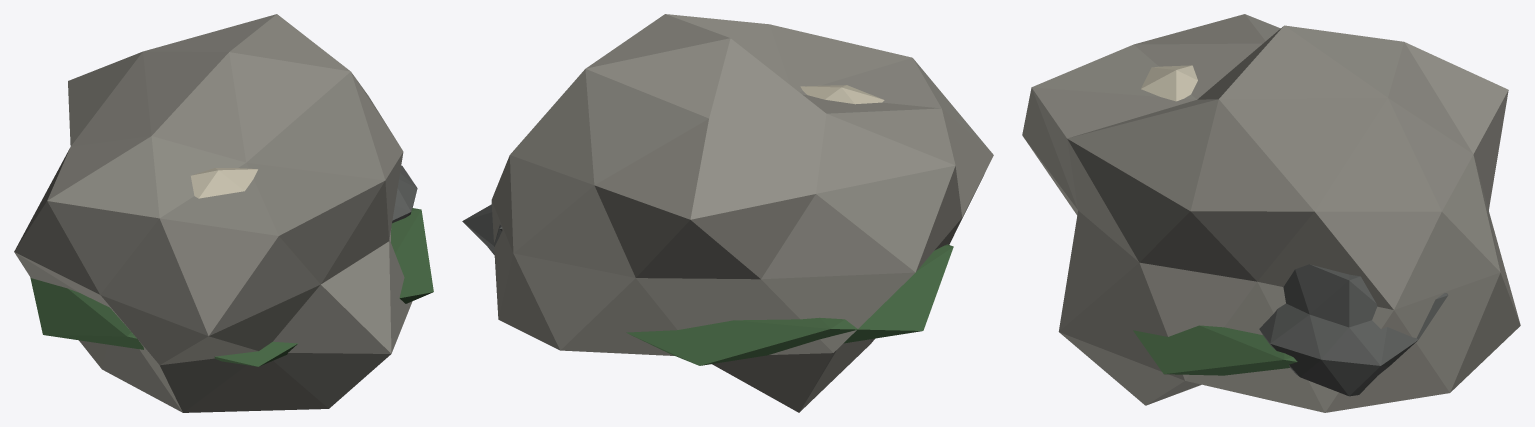
The model's file is rock_1.glb.
3 renders of one model, left to right at view 1: azimuth 30°, elevation 25°; view 2: azimuth 150°, elevation 25°; view 3: azimuth 270°, elevation 25°, orthographic. The views are drawn at different scales.
Visible parts, largest first — view 1: rock_1; view 2: rock_1; view 3: rock_1.
Boxes of the visible parts, x1,y1,x2,y2 form: rock_1: (14, 14, 433, 412); rock_1: (462, 14, 993, 412); rock_1: (1022, 14, 1520, 412).
Size of what is drawn, in the model's own units: 2.12 by 1.56 by 1.96.
